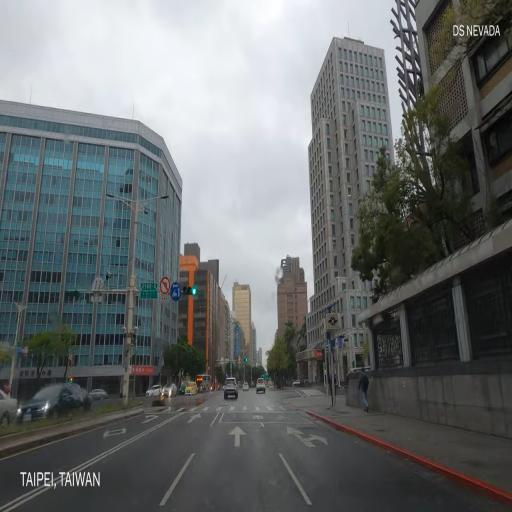Car: (15, 377, 92, 434), (0, 381, 22, 430), (88, 380, 110, 402), (222, 374, 238, 403), (161, 378, 180, 402), (194, 372, 214, 392), (145, 380, 163, 398), (256, 374, 267, 395), (184, 380, 198, 394), (242, 377, 251, 394)
